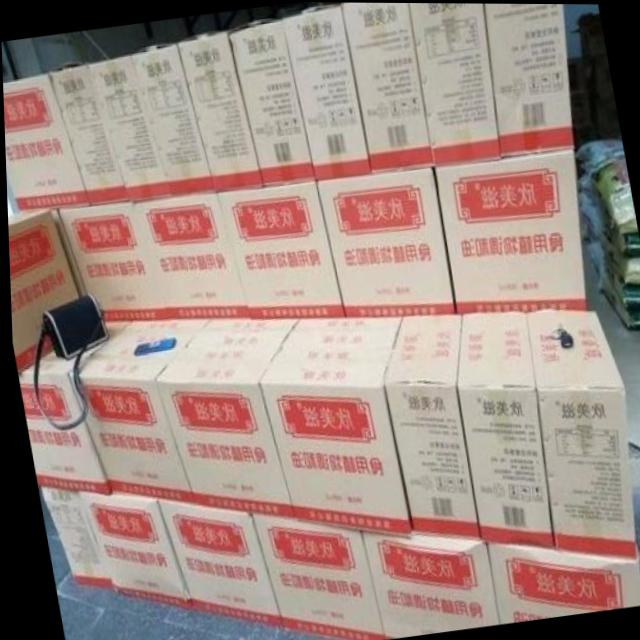box: (256, 313, 408, 535), (153, 316, 296, 518), (524, 307, 631, 554), (66, 319, 203, 501), (432, 149, 585, 309), (451, 308, 551, 548), (379, 312, 479, 541), (314, 169, 451, 316), (17, 316, 119, 491), (214, 181, 341, 319), (246, 512, 382, 640), (154, 499, 281, 631), (282, 5, 369, 182), (342, 2, 432, 173), (125, 194, 245, 322), (357, 527, 494, 638), (409, 2, 499, 167), (229, 19, 314, 188), (175, 30, 263, 191), (72, 490, 186, 610), (484, 3, 572, 158), (129, 46, 213, 197), (482, 543, 639, 622), (6, 208, 79, 372), (58, 203, 159, 320), (87, 54, 166, 198), (2, 75, 86, 210), (48, 63, 125, 203), (35, 484, 111, 587)
